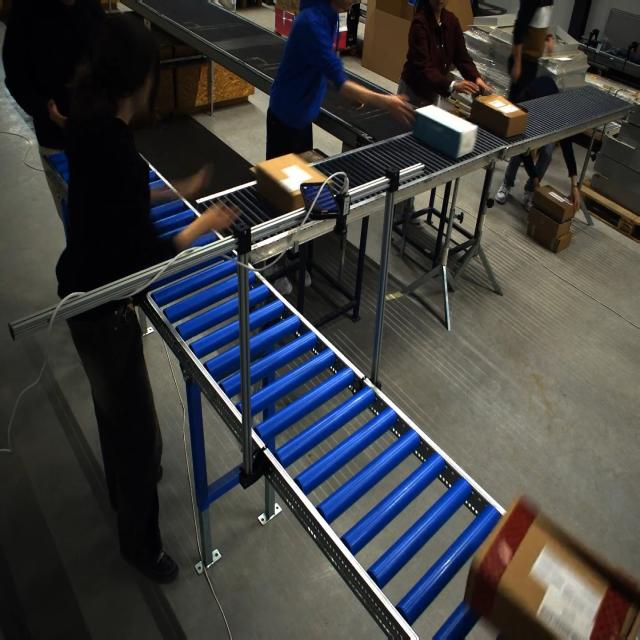box: (464, 496, 640, 640), (255, 152, 329, 215), (411, 104, 477, 160), (469, 91, 529, 139)
